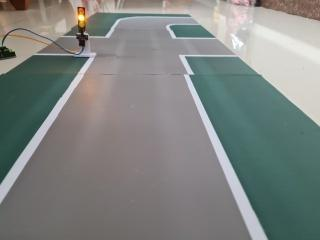yellow: (65, 1, 97, 36)
